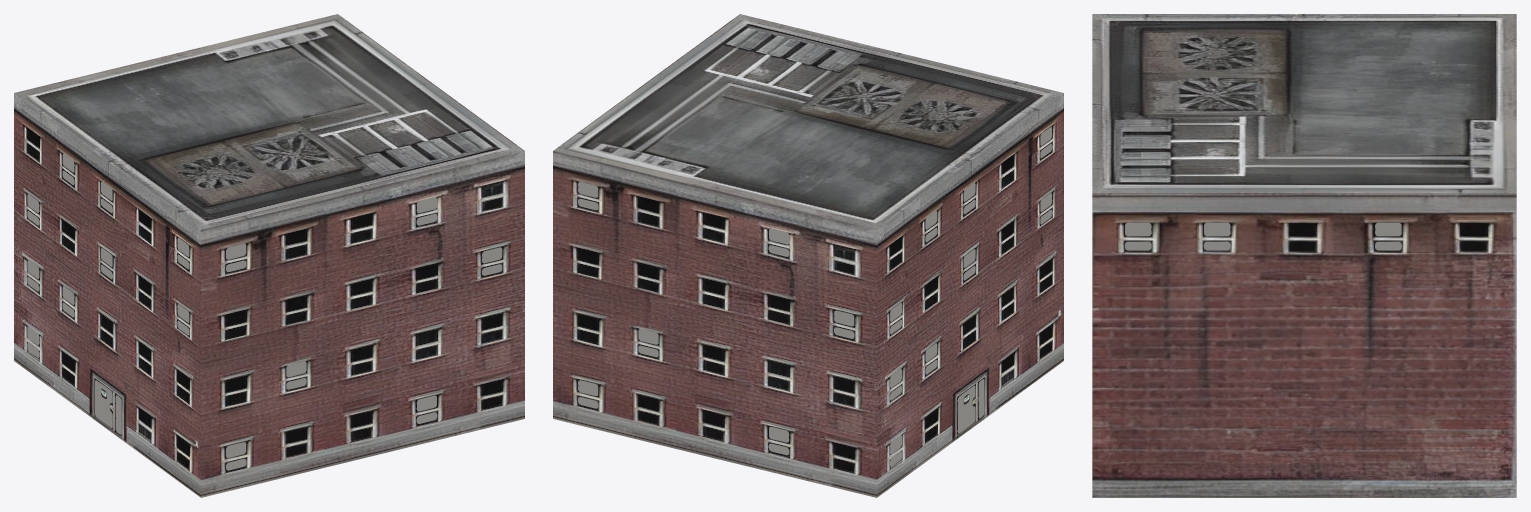
The model's file is city4storya_hdtex.glb.
3 renders of one model, left to right at view 1: azimuth 30°, elevation 25°; view 2: azimuth 150°, elevation 25°; view 3: azimuth 270°, elevation 25°, orthographic. The views are drawn at different scales.
Parts seen in each view (by area): view 1: City4Story_, LitWin_City4Story; view 2: City4Story_, LitWin_City4Story; view 3: City4Story_, LitWin_City4Story.
Boxes of the visible parts, x1,y1,x2,y2 form: City4Story_: (14,14,524,497); LitWin_City4Story: (27,154,502,470); City4Story_: (553,14,1063,497); LitWin_City4Story: (578,127,1052,466); City4Story_: (1092,14,1516,497); LitWin_City4Story: (1124,222,1401,250).
Size of the model in its own units: 17.92 by 14.18 by 17.92.
1 material, 1 textured.
